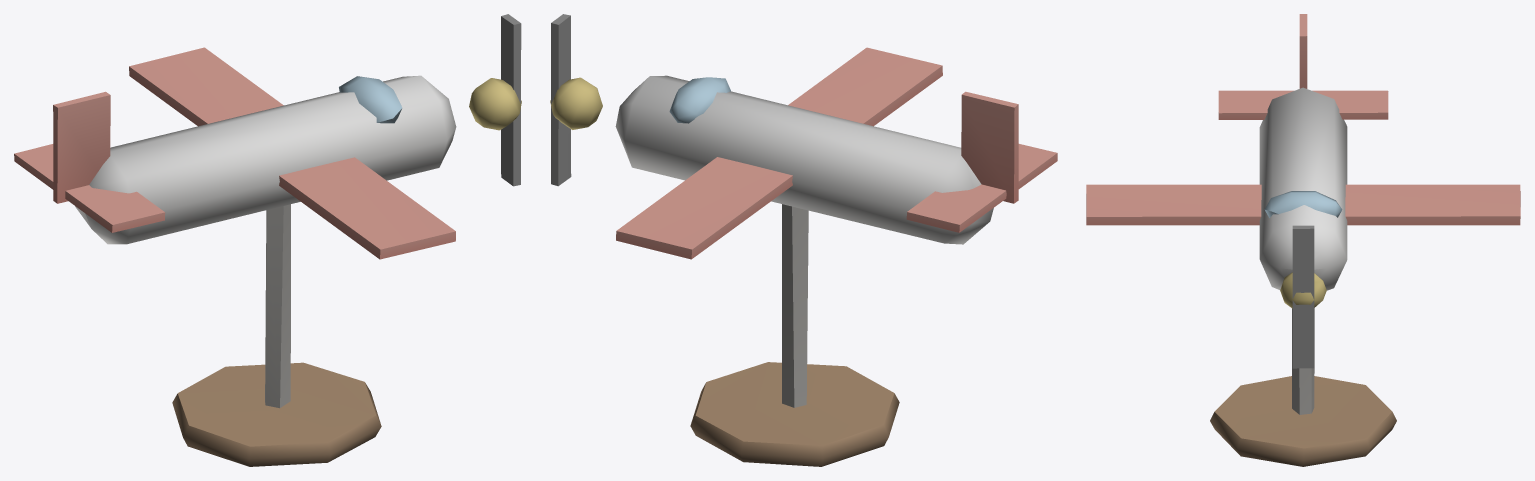
The picture shows the model from 3 angles, left to right: view 1: azimuth 30°, elevation 25°; view 2: azimuth 150°, elevation 25°; view 3: azimuth 270°, elevation 25°; orthographic projection. The views are drawn at different scales.
Visible parts, largest first — view 1: plane_model; view 2: plane_model; view 3: plane_model.
Boxes of the visible parts, x1,y1,x2,y2 form: plane_model: [14, 14, 521, 466]; plane_model: [550, 14, 1057, 466]; plane_model: [1086, 14, 1520, 466].
Size of the model in its own units: 0.5926 by 0.4575 by 0.5575.
